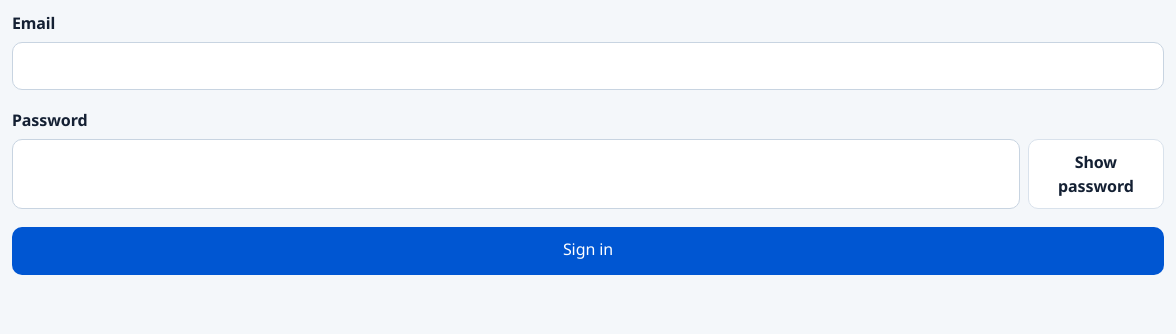
Scenario: staff login › submits only credentials and preserved safe return path
Type "staff@saxlem.test" into the field labelled "Email".
click(588, 66); type("staff@saxlem.test")  # box [12,42,1164,90]
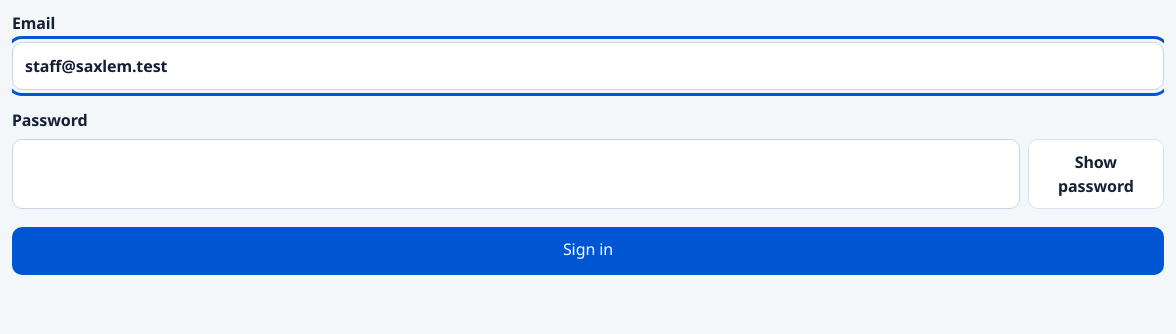
Type "correct-password" into the password field labelled "Password".
click(516, 174); type("correct-password")  # box [12,139,1020,209]
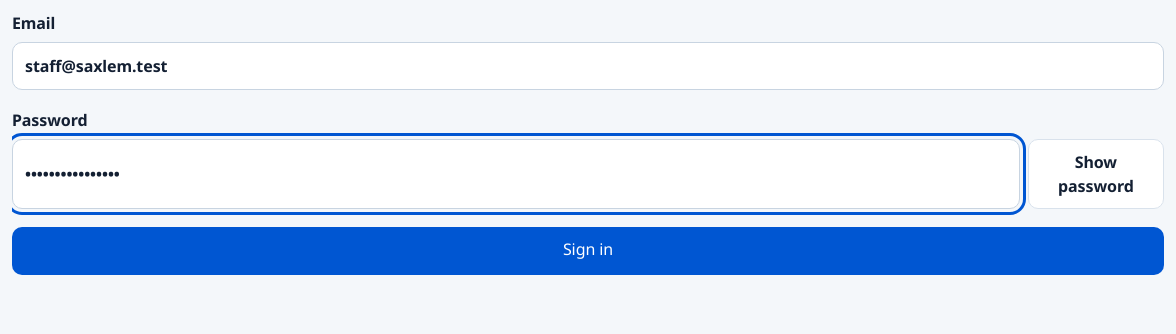
Click the button "Sign in".
click(588, 251)  # box [12,227,1164,275]
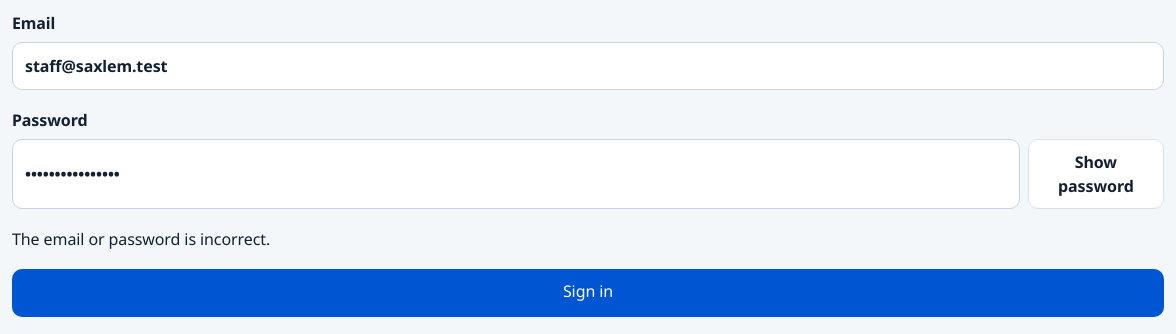
Expected: the message shows "incorrect", [12,228,270,250]
